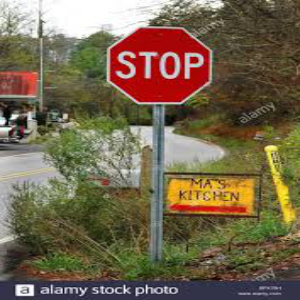STOP_SIGN: (107, 25, 213, 104)
